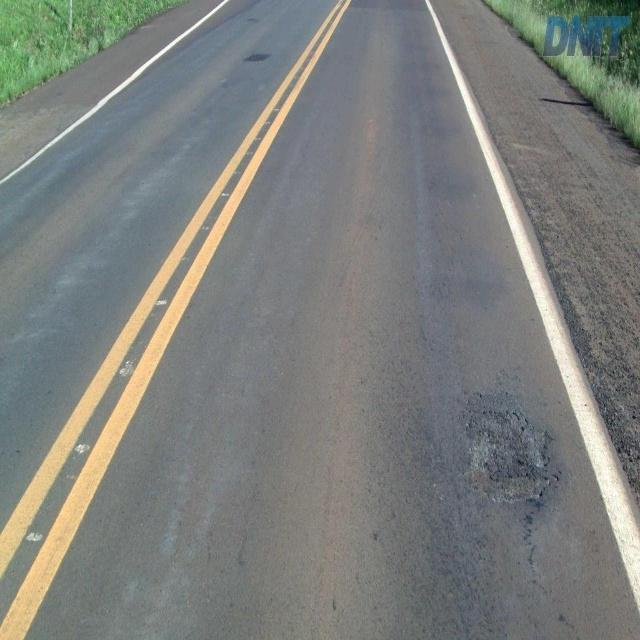pothole: (458, 404, 563, 505)
